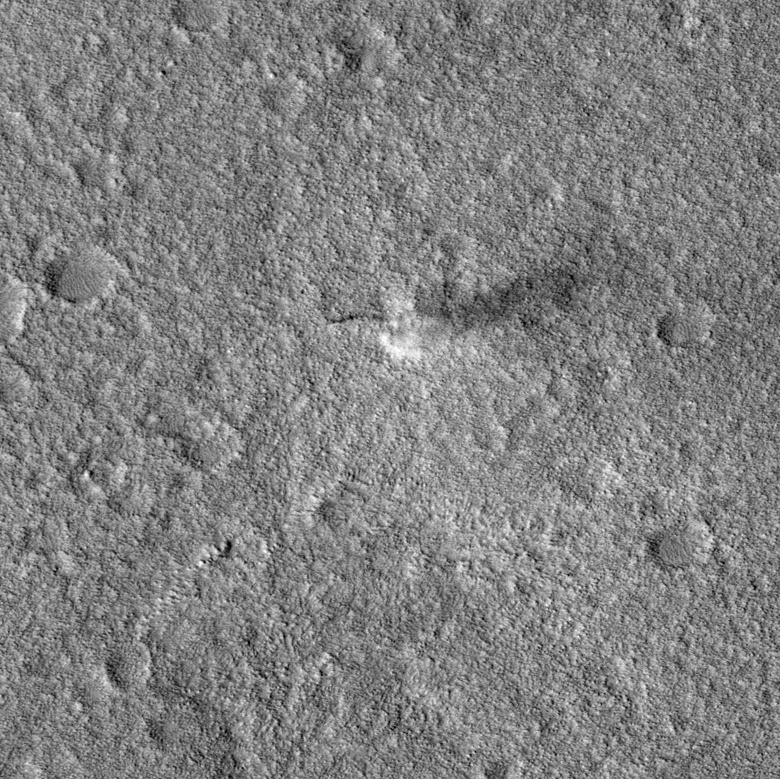dust_devil: (375, 268, 577, 364)
